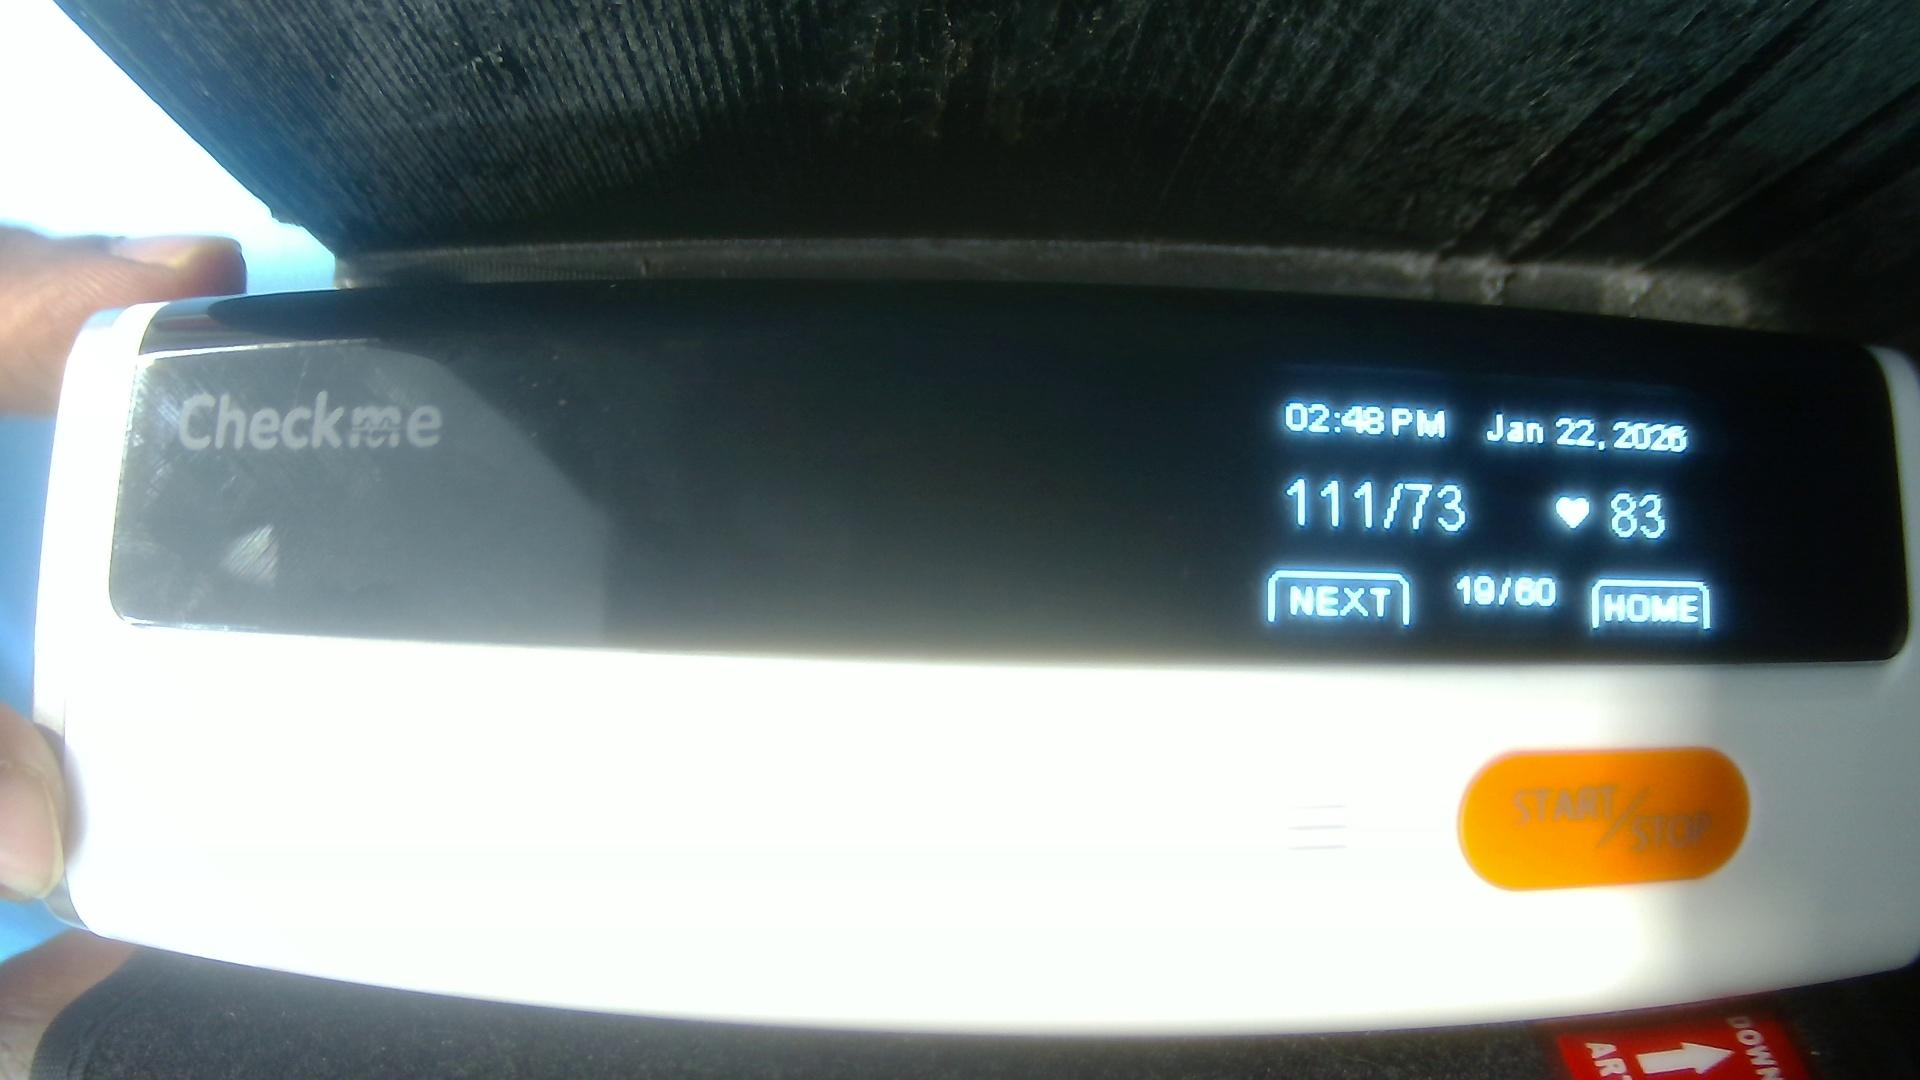DISPLAY: (128, 303, 1900, 645)
